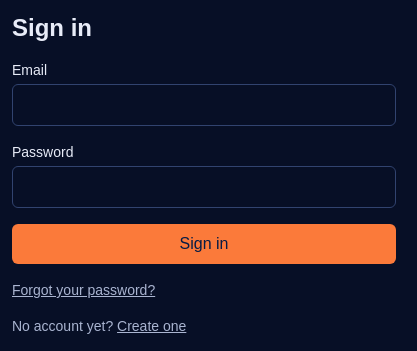
Test: LoginForm › disables the button while the request is pending
Step 1. Type "ann@example.invalid" into the field labelled "Email" → (204, 105), box x1=12 y1=84 x2=396 y2=126
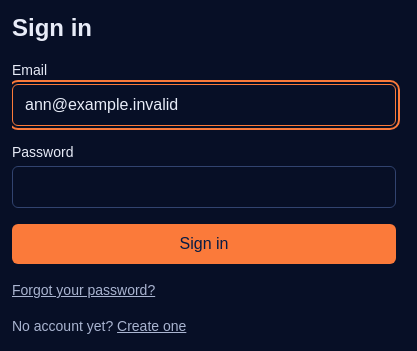
Step 2. Type "correct horse battery" into the password field labelled "Password" → (204, 187), box x1=12 y1=166 x2=396 y2=208
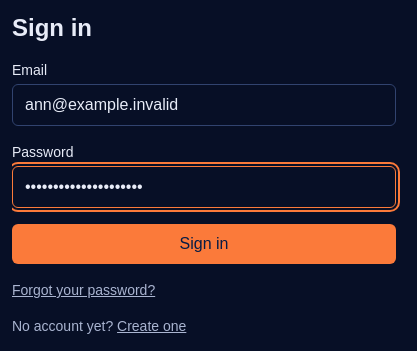
Step 3. Click the button "Sign in" → click(204, 244), box x1=12 y1=224 x2=396 y2=264
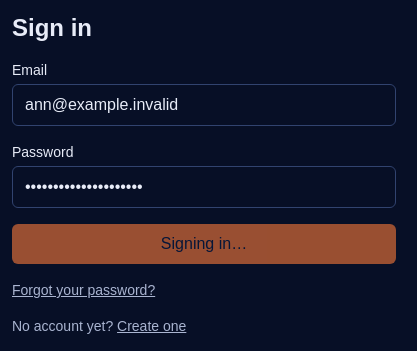
Check: the button "Signing in…" is disabled, box x1=12 y1=224 x2=396 y2=264
